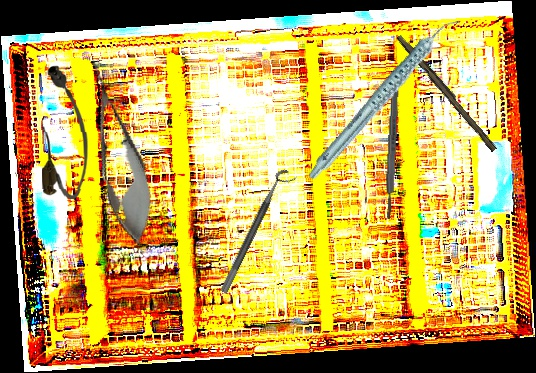Cannula: (40, 64, 89, 200)
Fixation Ring: (219, 167, 298, 299)
Handpiece: (281, 15, 487, 182)
Micro Scissor: (71, 54, 165, 250)
Scalpel Handle: (394, 32, 501, 153), (384, 70, 401, 220)
